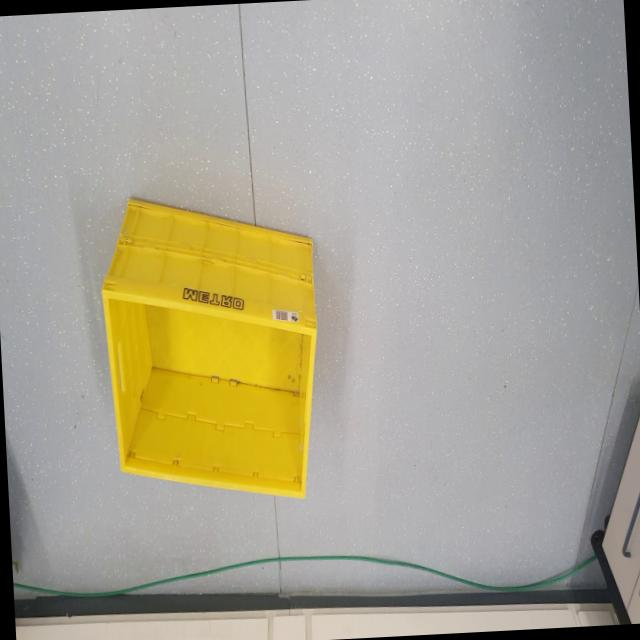box: (86, 182, 331, 514)
